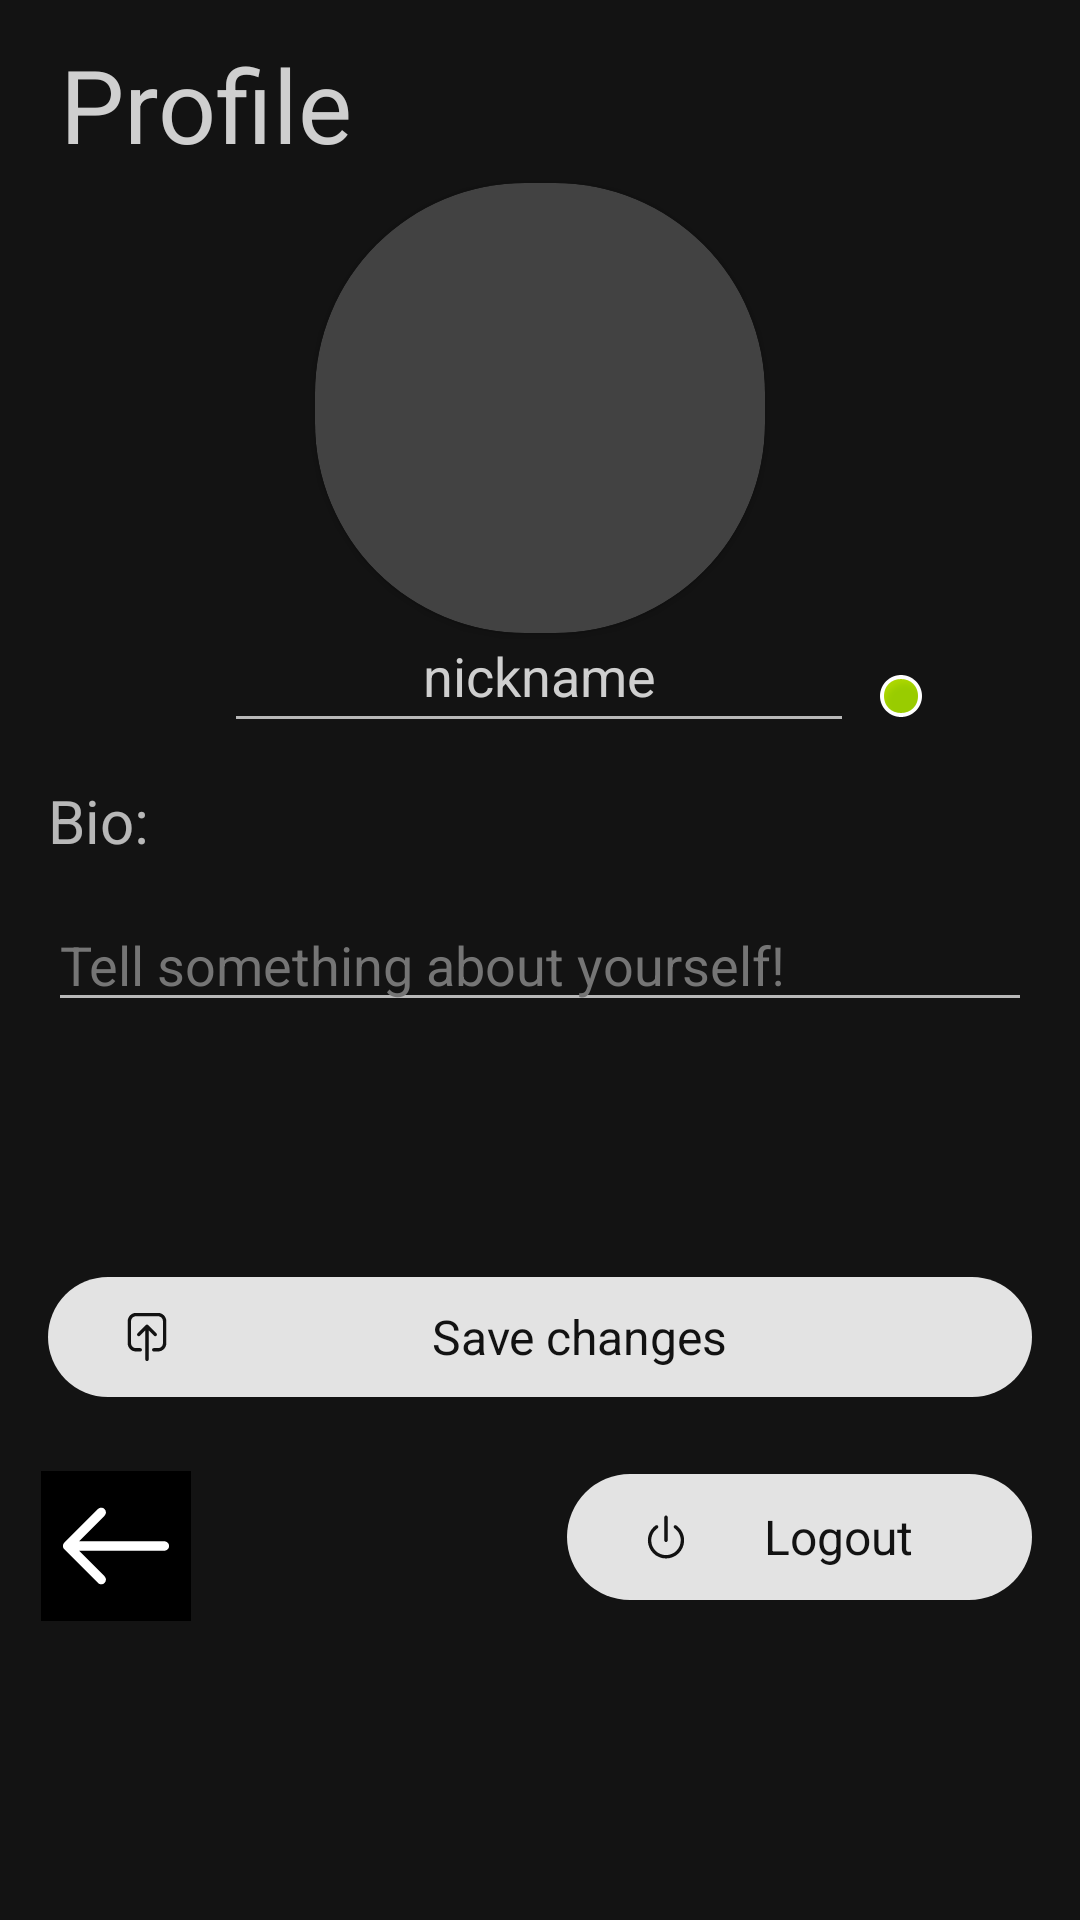

Screen size 1080px x 1920px. Icon name, then its center in pixels as (x=x, y=y):
back: (x=116, y=1546)
presence online: (x=901, y=696)
